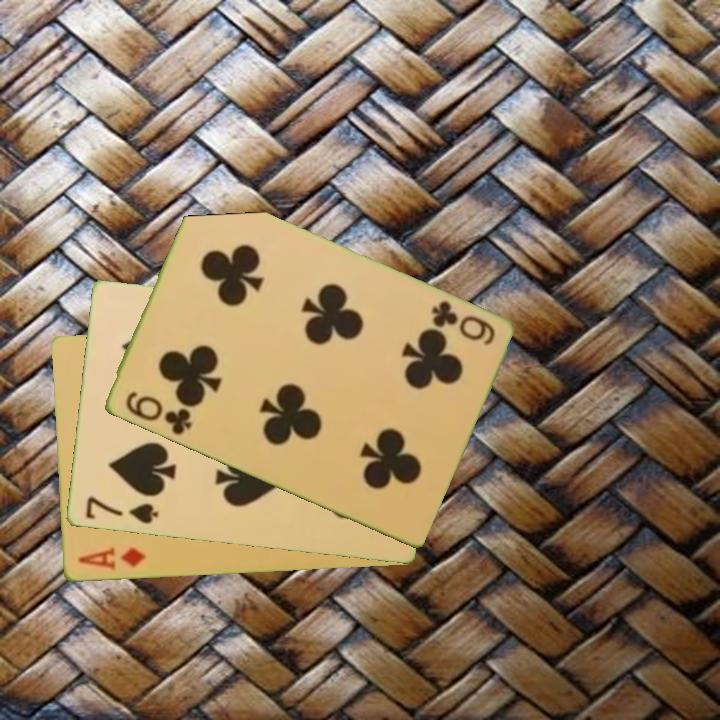6c: (121, 388, 194, 439), (427, 297, 498, 349)
7s: (82, 493, 161, 527)
Ad: (74, 544, 148, 574)
